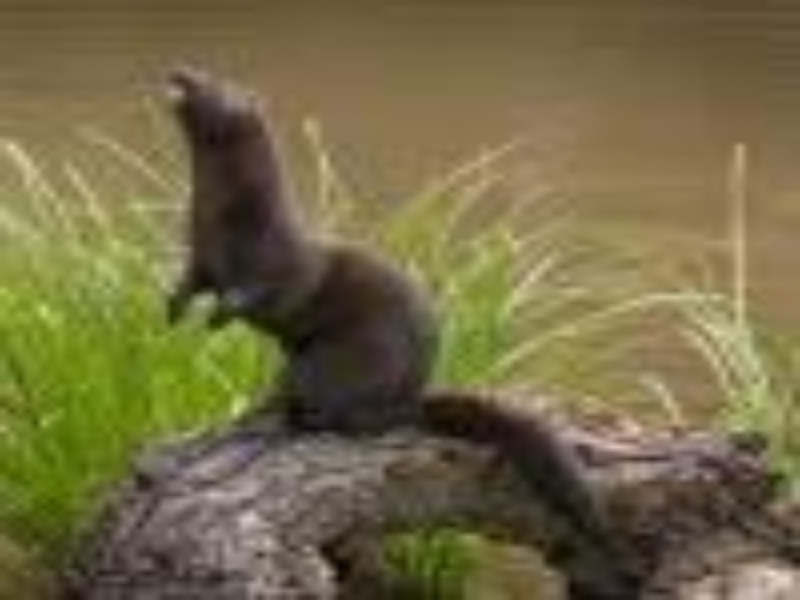minkish: (158, 60, 443, 429)
